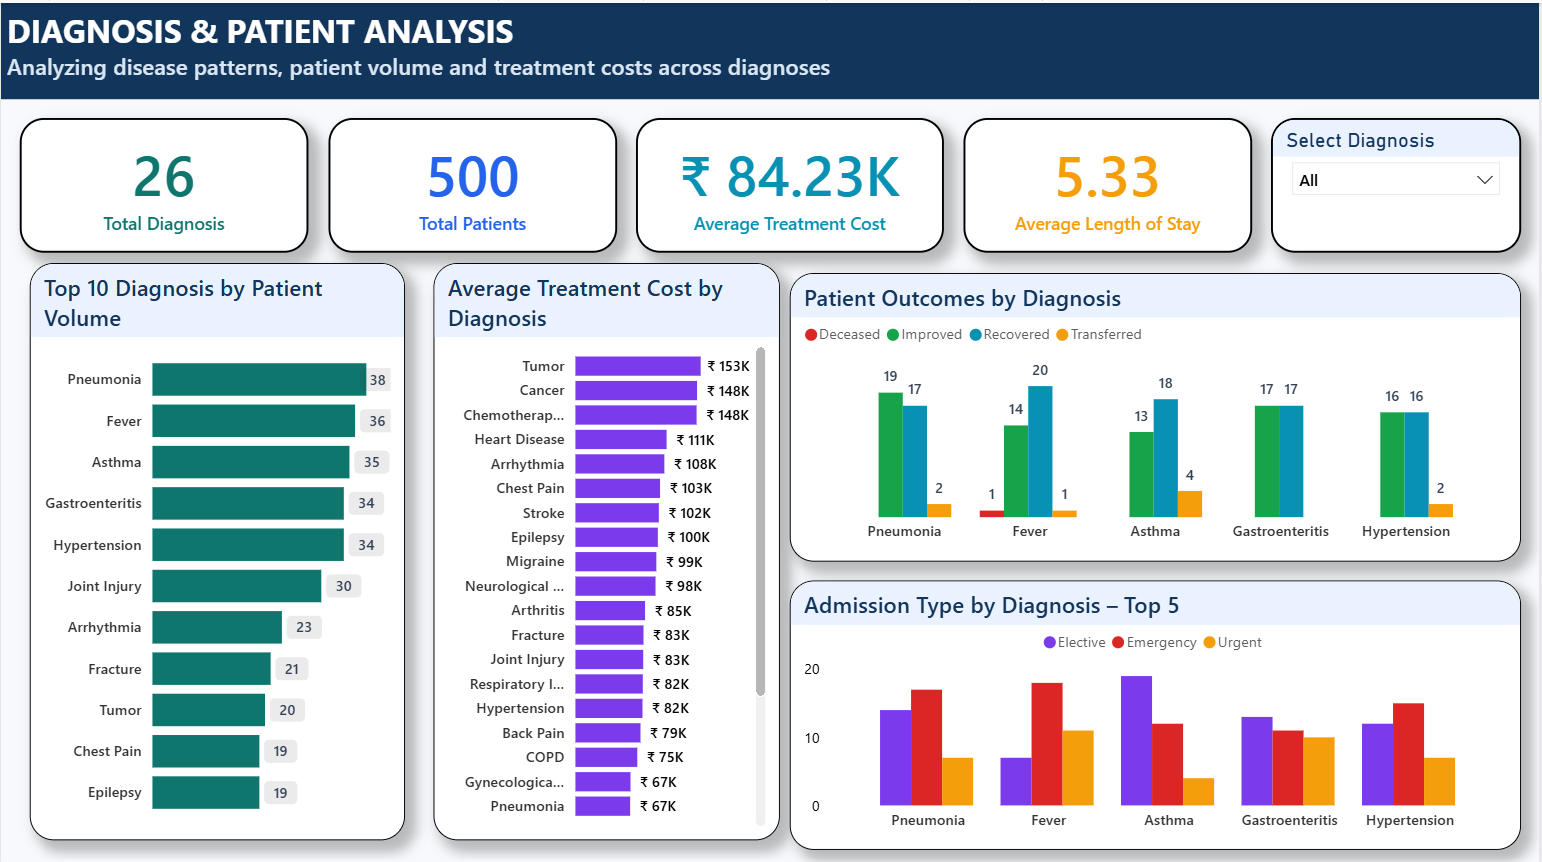

This screenshot's page, from the dashboard's own definition file:
{"tool":"powerbi","page":{"name":"Diagnosis Analysis","canvas":[1280,720],"ordinal":2},"visuals":[{"type":"textbox","box":[0,0,1280,80],"z":0},{"type":"card","fields":{"Values":["Table1.Total Diagnosis"]},"box":[16,96,240,112],"z":1000},{"type":"card","fields":{"Values":["Table1.Total Patients"]},"box":[272,96,240,112],"z":2000},{"type":"card","fields":{"Values":["Table1.Average Treatment Cost"]},"box":[528,96,256,112],"z":3000},{"type":"card","fields":{"Values":["Table1.Average Length of Stay"]},"box":[800,96,240,112],"z":4000},{"type":"slicer","title":"Select Diagnosis","fields":{"Values":["Table1.Diagnosis"]},"box":[1056,96,208,112],"z":5000},{"type":"clusteredBarChart","title":"Top 10 Diagnosis by Patient Volume","fields":{"Category":["Table1.Diagnosis"],"Y":["Table1.Total Patients"]},"box":[24,216,312,480],"z":6000},{"type":"clusteredBarChart","fields":{"Category":["Table1.Diagnosis"],"Y":["Table1.Average Treatment Cost"]},"box":[360,216,288,480],"z":7000},{"type":"clusteredColumnChart","title":"Patient Outcomes by Diagnosis","fields":{"Category":["Table1.Diagnosis"],"Y":["Table1.Total Patients"],"Series":["Table1.Outcome"]},"box":[656,224,608,240],"z":8000},{"type":"clusteredColumnChart","title":"Admission Type by Diagnosis – Top 5","fields":{"Category":["Table1.Diagnosis"],"Y":["Table1.Total Patients"],"Series":["Table1.Admission_Type"]},"box":[656,480,608,224],"z":9000}]}

Visuals, with their boxes in screenshot pixels (x1, y1, x2, y2), scaled from the page's 1280x720 canvas onto the 1542x862 screenshot:
textbox: l=0, t=0, r=1541, b=96
card - Table1.Total Diagnosis: l=19, t=115, r=308, b=249
card - Table1.Total Patients: l=328, t=115, r=617, b=249
card - Table1.Average Treatment Cost: l=636, t=115, r=944, b=249
card - Table1.Average Length of Stay: l=964, t=115, r=1253, b=249
"Select Diagnosis" slicer: l=1272, t=115, r=1523, b=249
"Top 10 Diagnosis by Patient Volume" clusteredBarChart: l=29, t=259, r=405, b=833
clusteredBarChart - Table1.Diagnosis x Table1.Average Treatment Cost: l=434, t=259, r=781, b=833
"Patient Outcomes by Diagnosis" clusteredColumnChart: l=790, t=268, r=1523, b=556
"Admission Type by Diagnosis – Top 5" clusteredColumnChart: l=790, t=575, r=1523, b=843
